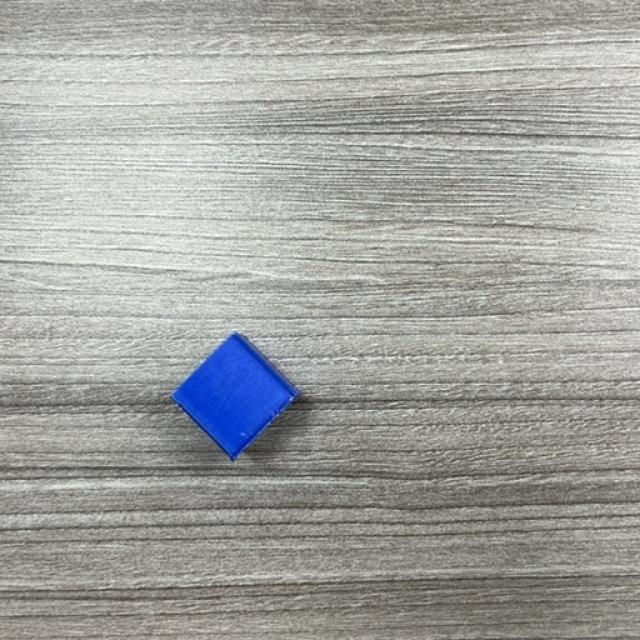Azul: (170, 334, 301, 462)
